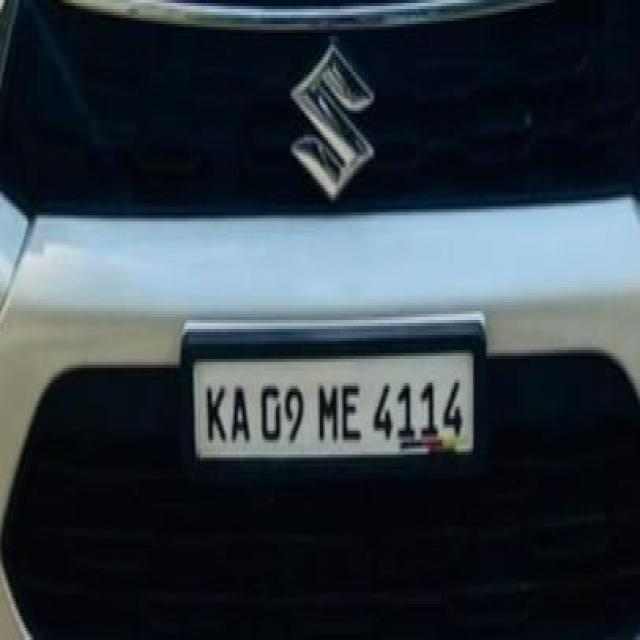0: (257, 381, 286, 444)
1: (419, 378, 439, 446), (396, 379, 414, 448)
4: (370, 376, 397, 448), (442, 374, 468, 442)
9: (284, 384, 308, 448)
A: (229, 376, 254, 453)
E: (340, 376, 365, 444)
K: (203, 374, 228, 449)
M: (314, 376, 343, 449)
